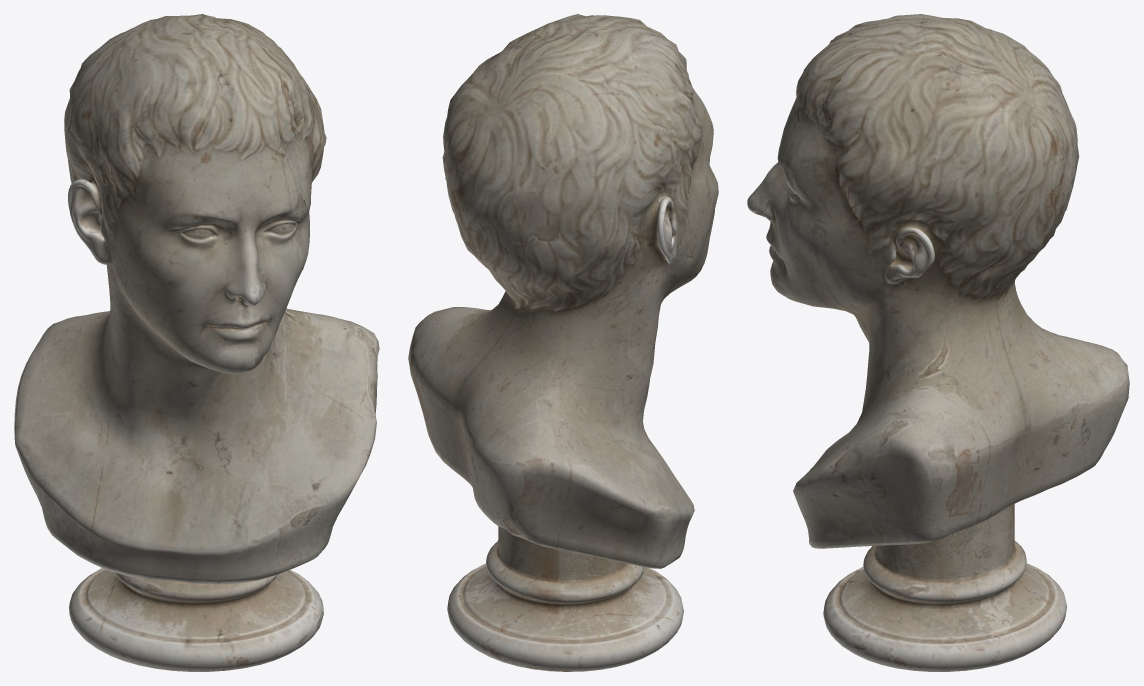
Rendered from busto.glb.
The picture shows the model from 3 angles, left to right: view 1: azimuth 30°, elevation 25°; view 2: azimuth 150°, elevation 25°; view 3: azimuth 270°, elevation 25°; orthographic projection. The views are drawn at different scales.
Visible parts, largest first — view 1: marble_bust_01; view 2: marble_bust_01; view 3: marble_bust_01.
Boxes of the visible parts, x1,y1,x2,y2 form: marble_bust_01: (14,14,379,671); marble_bust_01: (408,14,718,671); marble_bust_01: (747,14,1129,671).
Bounding box in the file's own units: 0.2718 × 0.5149 × 0.2997.
1 material, 1 textured.
